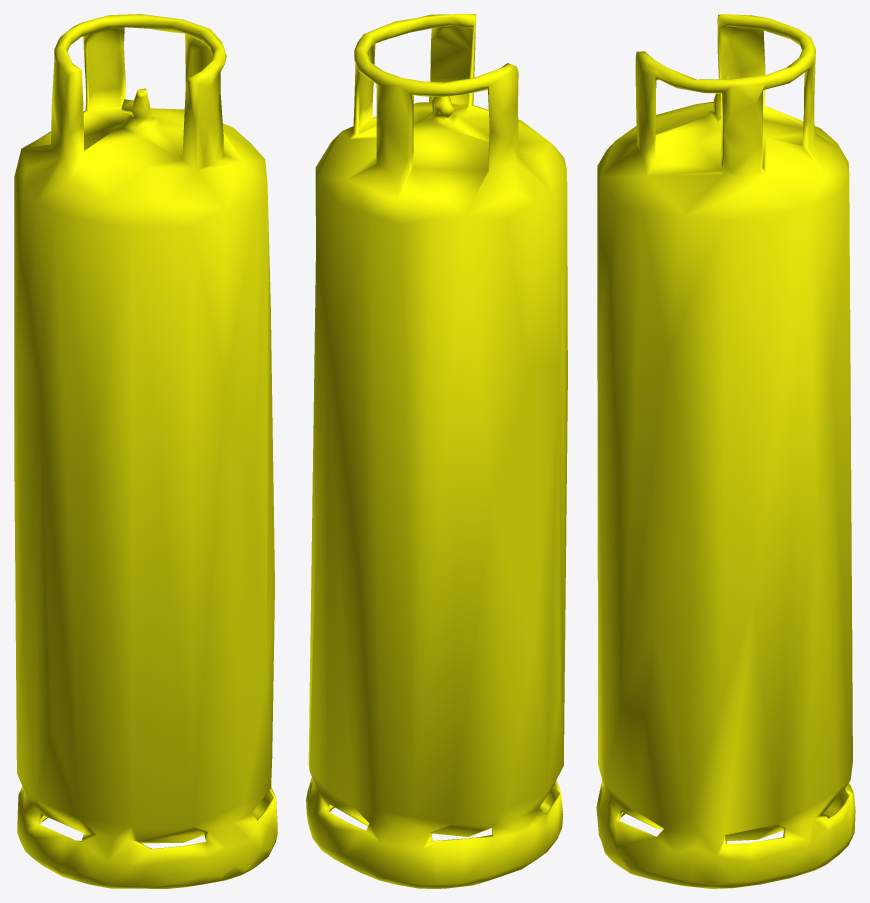
File: junk7.glb
3 views of the same model, side by side, from view 1: azimuth 30°, elevation 25°; view 2: azimuth 150°, elevation 25°; view 3: azimuth 270°, elevation 25° (orthographic).
Parts seen in each view (by area): view 1: udmkdejqx_LOD0_TIER3_000; view 2: udmkdejqx_LOD0_TIER3_000; view 3: udmkdejqx_LOD0_TIER3_000.
Part boxes in pixels (left/top/right/bottom): udmkdejqx_LOD0_TIER3_000: left=14, top=14, right=277, bottom=888; udmkdejqx_LOD0_TIER3_000: left=306, top=14, right=567, bottom=888; udmkdejqx_LOD0_TIER3_000: left=596, top=14, right=855, bottom=888.
Size of the model in its own units: 0.3711 by 1.24 by 0.3663.
Materials: 1 (1 with a texture image).
